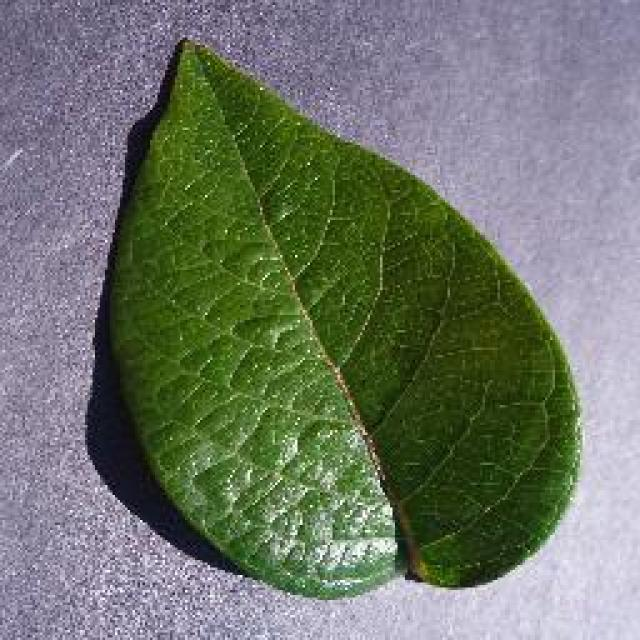Blu_healthy: (139, 140, 499, 531)
